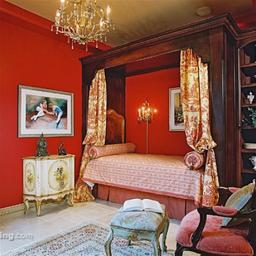Cama: (93, 146, 201, 203)
